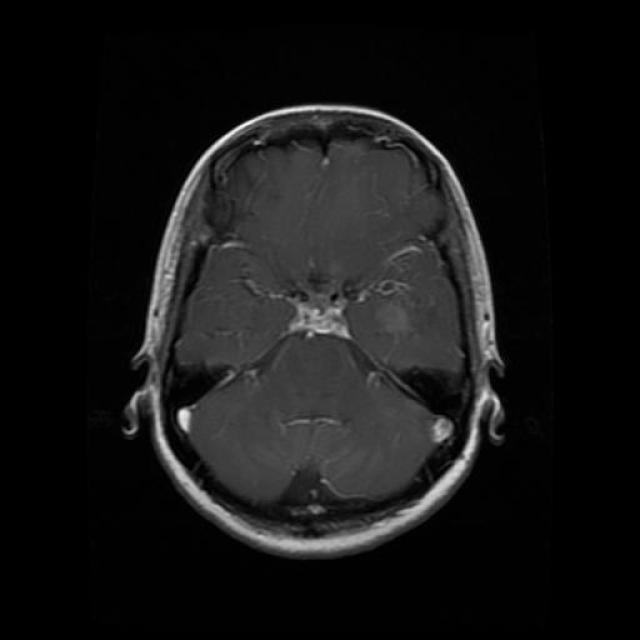glioma: (272, 261, 380, 369)
